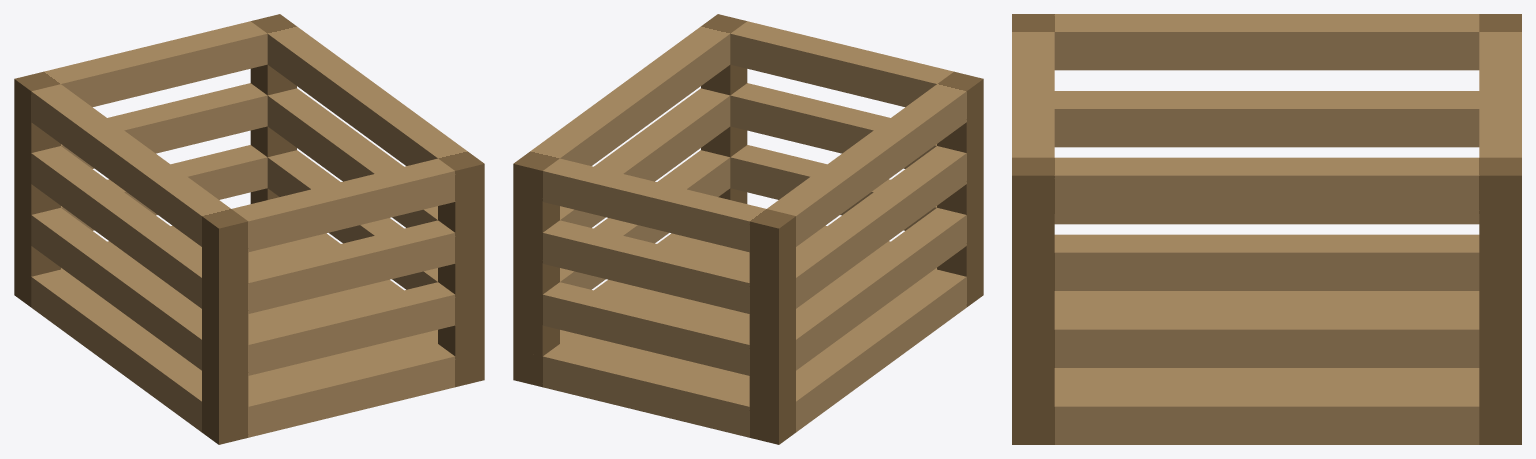
Rendered from skrzyneczka_export.dae.
3 views of the same model, side by side, from view 1: azimuth 30°, elevation 25°; view 2: azimuth 150°, elevation 25°; view 3: azimuth 270°, elevation 25° (orthographic). The views are drawn at different scales.
Visible parts, largest first — view 1: skrzyneczka; view 2: skrzyneczka; view 3: skrzyneczka.
Part boxes in pixels (box(x1,y1,x2,y2)): skrzyneczka: box(14, 14, 484, 444); skrzyneczka: box(513, 14, 983, 444); skrzyneczka: box(1012, 14, 1521, 444).
Bounding box in the file's own units: 9 × 7 × 12.
1 material, 1 textured.
